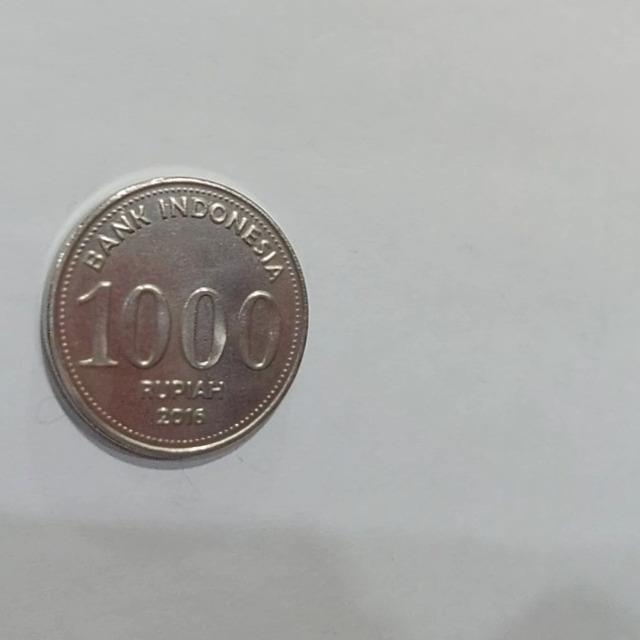Rp100: (38, 170, 310, 469)
